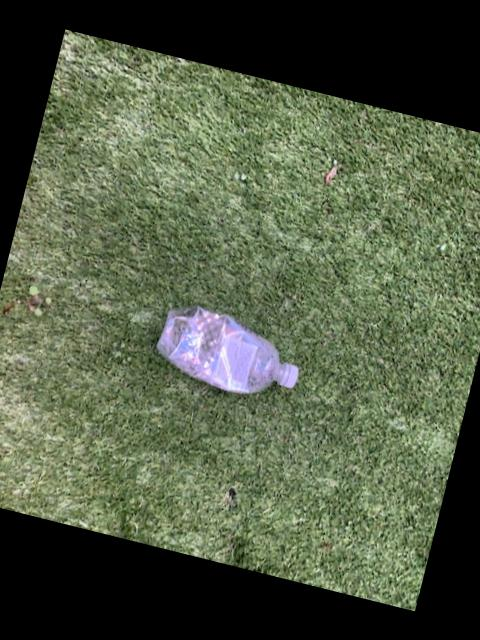plastic: (157, 308, 298, 394)
